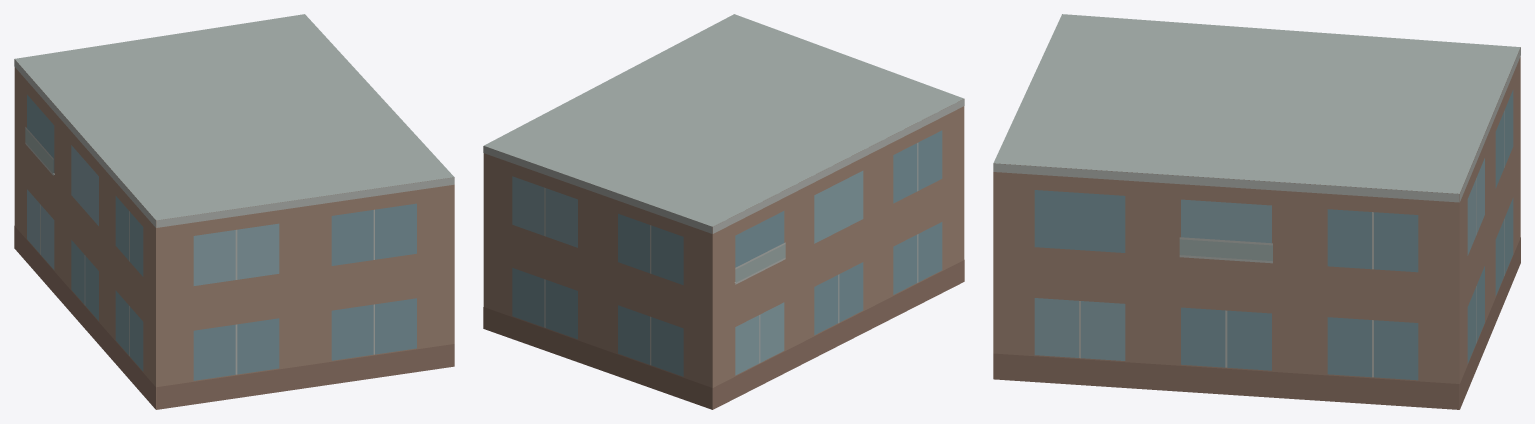
Rendered from survey-upis-32802929.glb.
3 renders of one model, left to right at view 1: azimuth 30°, elevation 25°; view 2: azimuth 150°, elevation 25°; view 3: azimuth 270°, elevation 25°, orthographic. The views are drawn at different scales.
Visible parts, largest first — view 1: survey-upis-32802929.tmp; view 2: survey-upis-32802929.tmp; view 3: survey-upis-32802929.tmp.
Boxes of the visible parts, x1,y1,x2,y2 form: survey-upis-32802929.tmp: (14,14,454,409); survey-upis-32802929.tmp: (483,14,964,409); survey-upis-32802929.tmp: (993,14,1520,409).
Bounding box in the file's own units: 10.9 × 6.1 × 13.51.
